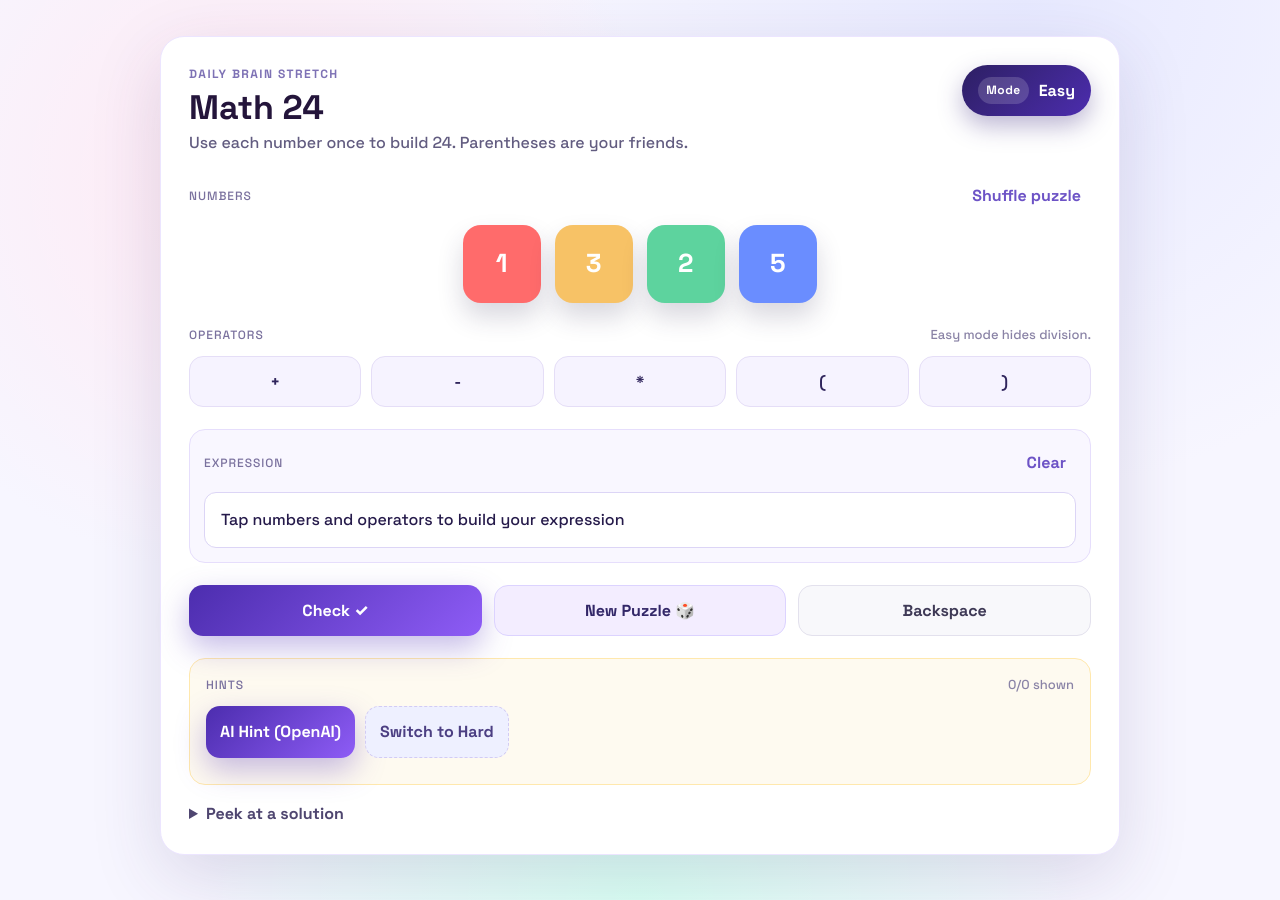
Test: Math24Game › Mode Toggle › shows division operator in hard mode
This screenshot has width=1280, height=900.
Click the button "Mode Easy" at (1027,91), box [962,65,1091,116]
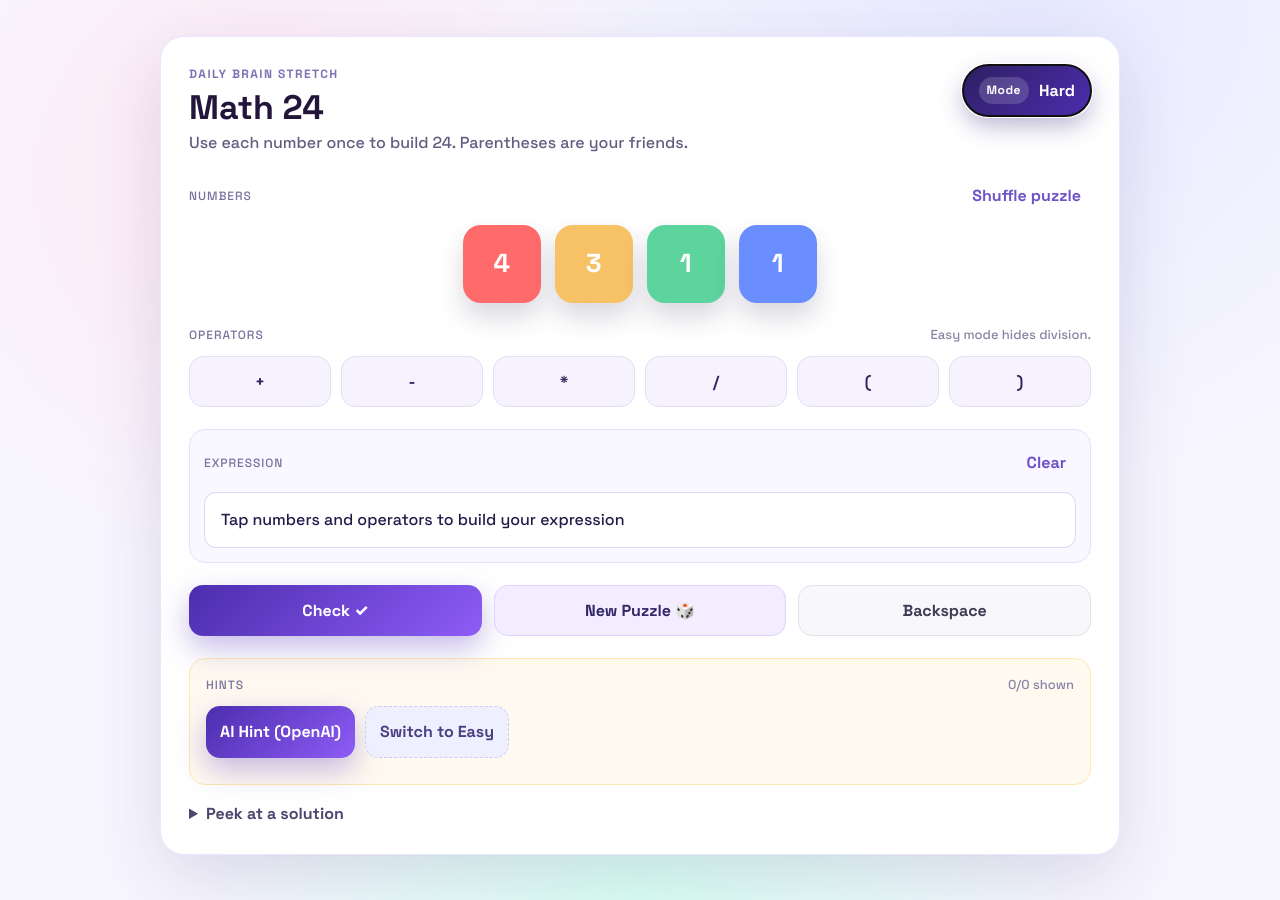
expect the button named "Add /" is shown: met, box [645,356,787,408]
